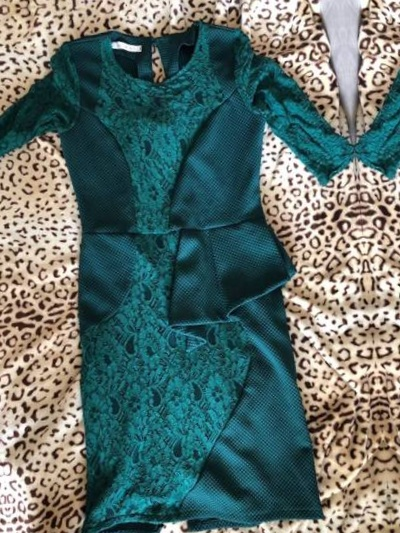Dress: (0, 0, 390, 533), (341, 0, 400, 526), (0, 23, 11, 533), (0, 0, 335, 5), (397, 523, 400, 533)
